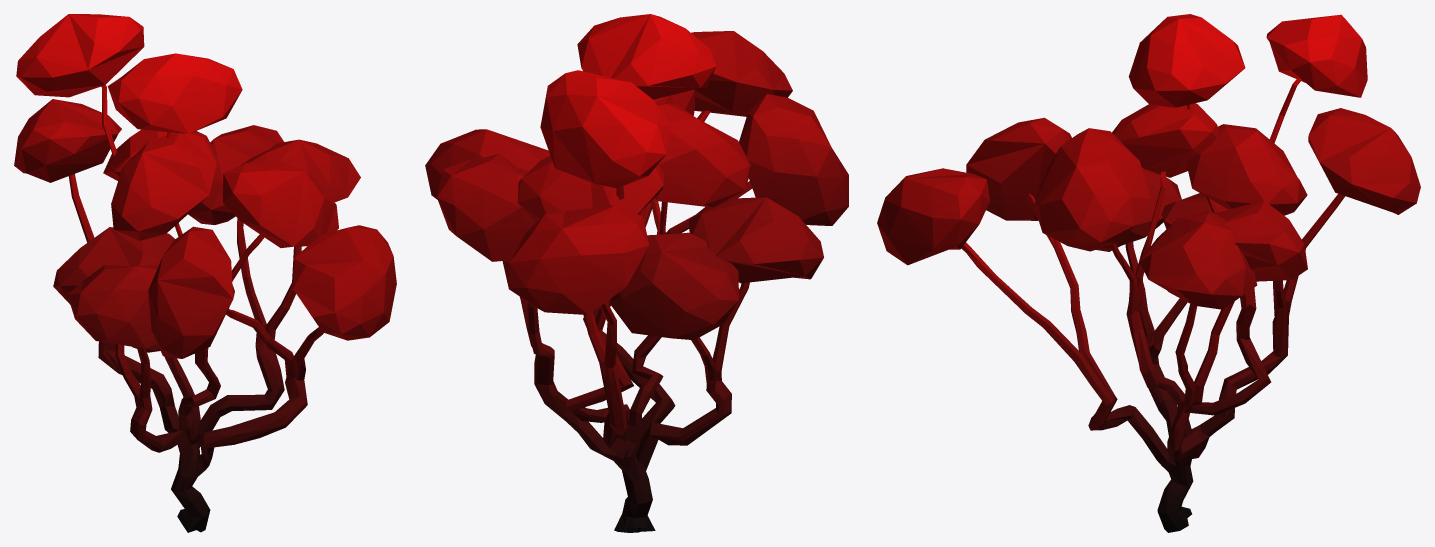
The model's file is TreeHiatus03.fbx.
3 views of the same model, side by side, from view 1: azimuth 30°, elevation 25°; view 2: azimuth 150°, elevation 25°; view 3: azimuth 270°, elevation 25° (orthographic). The views are drawn at different scales.
Visible parts, largest first — view 1: TreeHiatus03_LOD0; view 2: TreeHiatus03_LOD0; view 3: TreeHiatus03_LOD0.
Boxes of the visible parts, left/top/right/bottom form: TreeHiatus03_LOD0: left=14, top=14, right=396, bottom=532; TreeHiatus03_LOD0: left=425, top=14, right=848, bottom=532; TreeHiatus03_LOD0: left=877, top=14, right=1420, bottom=532.
Size of what is drawn, in the model's own units: 1318 by 1909 by 1877.
